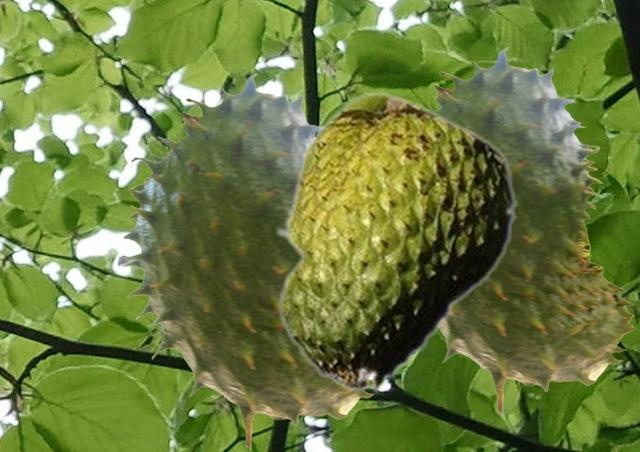guyabano: (117, 73, 373, 450), (427, 47, 635, 415), (274, 90, 517, 395)
